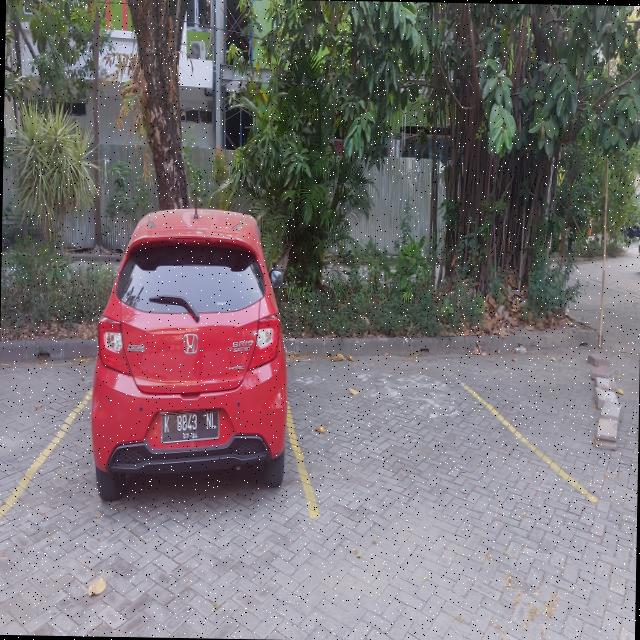empty: (285, 348, 593, 513)
occupied: (0, 211, 314, 525)
